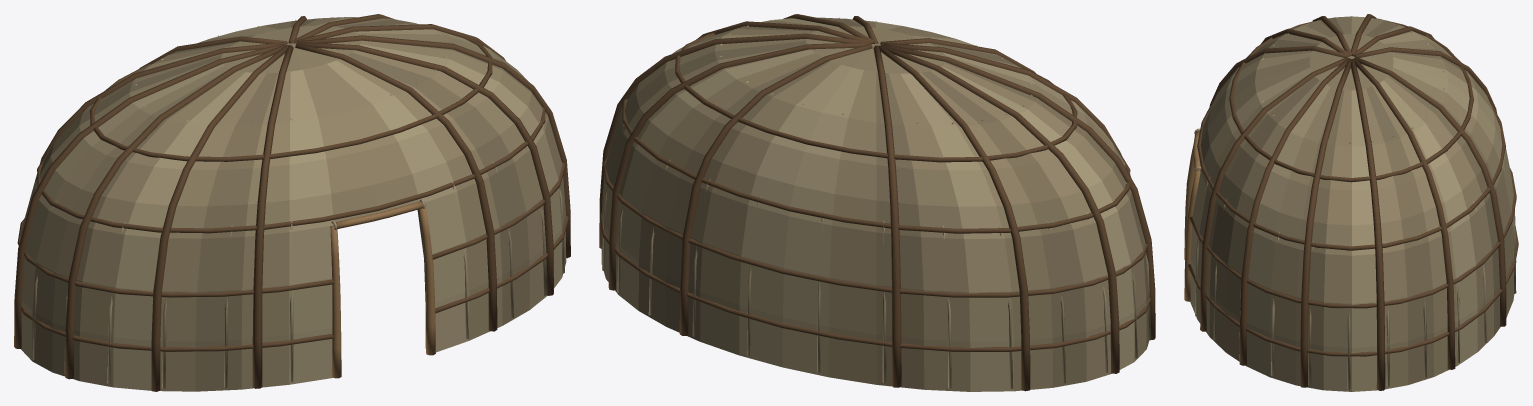
The model's file is oval_thatch_longhouse_lod0.glb.
3 renders of one model, left to right at view 1: azimuth 30°, elevation 25°; view 2: azimuth 150°, elevation 25°; view 3: azimuth 270°, elevation 25°, orthographic. The views are drawn at different scales.
Visible parts, largest first — view 1: oval_thatch_longhouse_lod0; view 2: oval_thatch_longhouse_lod0; view 3: oval_thatch_longhouse_lod0.
Part boxes in pixels (x1=…): oval_thatch_longhouse_lod0: x1=14, y1=14, x2=570, y2=391; oval_thatch_longhouse_lod0: x1=599, y1=14, x2=1155, y2=391; oval_thatch_longhouse_lod0: x1=1184, y1=14, x2=1518, y2=391.
Bounding box in the file's own units: 6.74 × 3.17 × 4.27.
